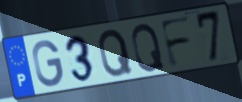3: (64, 32, 100, 86)
7: (193, 9, 223, 65)
F: (158, 15, 193, 70)
G: (31, 39, 65, 89)
Q: (97, 27, 135, 79), (130, 22, 167, 74)
